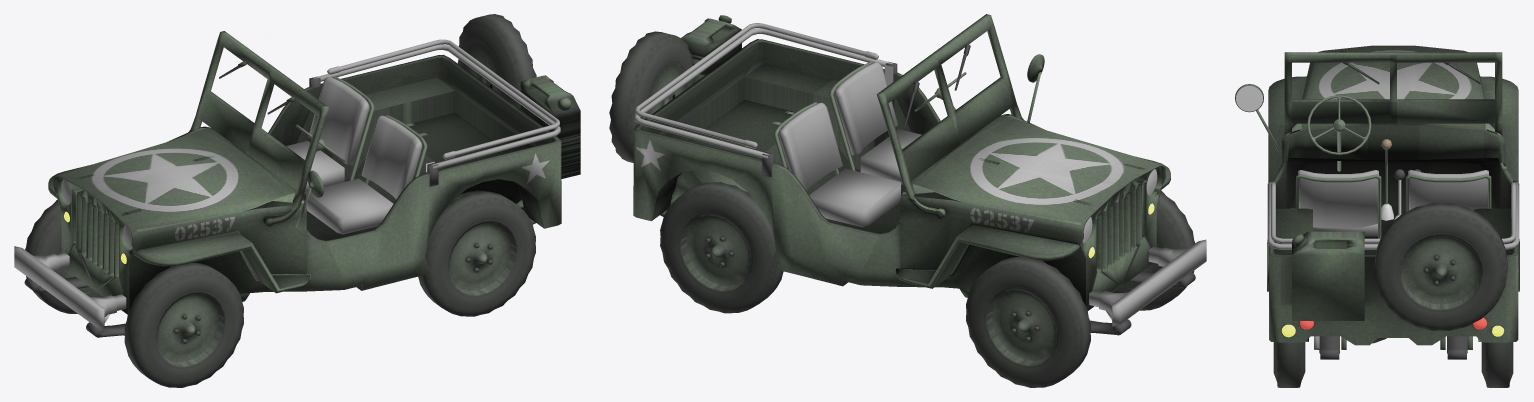
The model's file is jeep.fbx.
The picture shows the model from 3 angles, left to right: view 1: azimuth 30°, elevation 25°; view 2: azimuth 150°, elevation 25°; view 3: azimuth 270°, elevation 25°; orthographic projection. The views are drawn at different scales.
Parts seen in each view (by area): view 1: chassis, screen, fwheel2.L, rwheel2.L, seat.L, rwheel.L, fwheel.L, seat.R, chassis.001, Cube.004, sparewheel2, canister (+5 smaller); view 2: chassis, screen, fwheel2.R, rwheel2.R, seat.R, seat.L, fwheel.R, rwheel.R, sparewheel2, chassis.001, Cube.004, roof1 (+6 smaller); view 3: chassis, screen, sparewheel2, canister, sparewheel, seat.L, chassis.001, seat.R, rwheel2.R, rwheel2.L, steerwheel, roof2 (+7 smaller).
Boxes of the visible parts, x1=… form: chassis: x1=53, y1=54, x2=561, y2=314; screen: x1=188, y1=31, x2=329, y2=226; fwheel2.L: x1=124, y1=263, x2=243, y2=387; rwheel2.L: x1=418, y1=191, x2=535, y2=316; seat.L: x1=306, y1=115, x2=422, y2=234; rwheel.L: x1=446, y1=219, x2=518, y2=297; fwheel.L: x1=154, y1=291, x2=226, y2=368; seat.R: x1=286, y1=77, x2=369, y2=193; chassis.001: x1=48, y1=165, x2=309, y2=293; Cube.004: x1=14, y1=246, x2=126, y2=328; sparewheel2: x1=457, y1=14, x2=536, y2=109; canister: x1=520, y1=75, x2=580, y2=178; chassis: x1=633, y1=39, x2=1165, y2=310; screen: x1=876, y1=14, x2=1024, y2=219; fwheel2.R: x1=966, y1=257, x2=1090, y2=387; rwheel2.R: x1=660, y1=182, x2=783, y2=313; seat.R: x1=779, y1=103, x2=900, y2=227; seat.L: x1=834, y1=62, x2=921, y2=184; fwheel.R: x1=983, y1=286, x2=1059, y2=367; rwheel.R: x1=678, y1=211, x2=754, y2=293; sparewheel2: x1=609, y1=31, x2=694, y2=162; chassis.001: x1=897, y1=156, x2=1170, y2=288; Cube.004: x1=1089, y1=239, x2=1206, y2=326; roof1: x1=634, y1=28, x2=892, y2=159; chassis: x1=1267, y1=45, x2=1519, y2=349; screen: x1=1284, y1=52, x2=1502, y2=135; sparewheel2: x1=1374, y1=203, x2=1507, y2=330; canister: x1=1292, y1=231, x2=1364, y2=320; sparewheel: x1=1397, y1=233, x2=1484, y2=311; seat.L: x1=1298, y1=170, x2=1378, y2=236; chassis.001: x1=1268, y1=76, x2=1518, y2=180; seat.R: x1=1408, y1=170, x2=1488, y2=210; rwheel2.R: x1=1481, y1=342, x2=1513, y2=387; rwheel2.L: x1=1273, y1=342, x2=1305, y2=387; steerwheel: x1=1307, y1=95, x2=1371, y2=171; roof2: x1=1271, y1=182, x2=1515, y2=243.
Size of the model in its own units: 3.52 by 1.94 by 1.74.
Materials: 12 (2 with a texture image).
